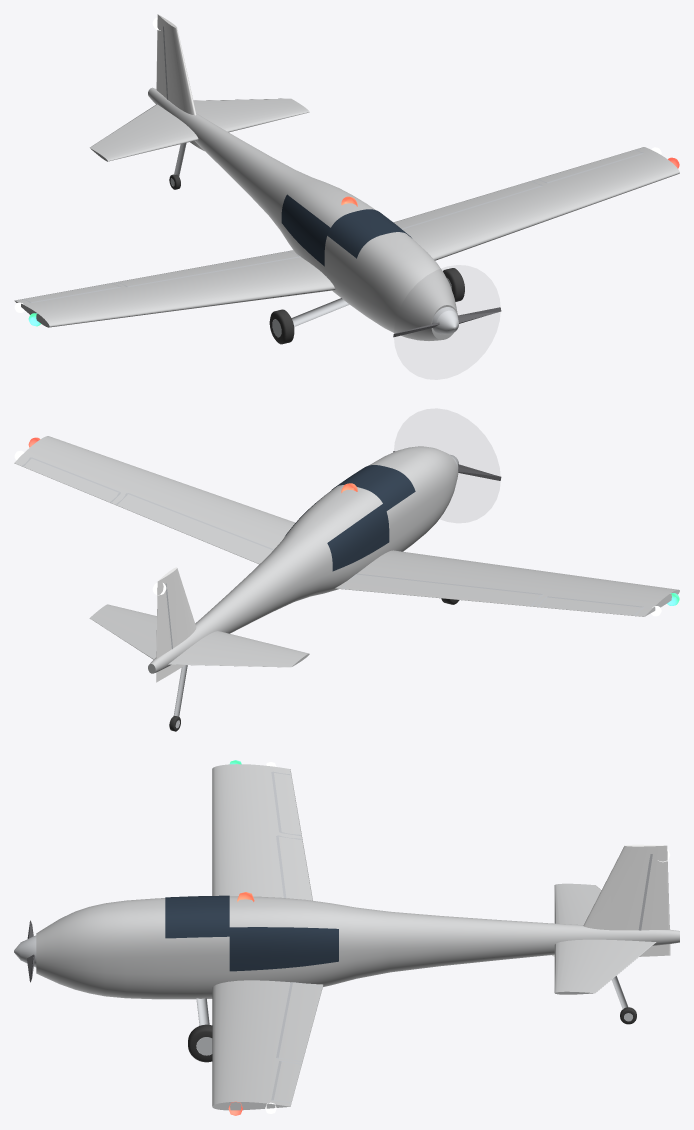
3 views of the same model, one above another, from view 1: azimuth 30°, elevation 25°; view 2: azimuth 150°, elevation 25°; view 3: azimuth 270°, elevation 25° (orthographic). The views are drawn at different scales.
Visible parts, largest first — view 1: airframe; view 2: airframe; view 3: airframe.
Part boxes in pixels (box(x1,y1,x2,y2)): airframe: box(14, 14, 679, 344); airframe: box(14, 436, 679, 731); airframe: box(14, 760, 679, 1115).
Size of the model in its own units: 7.92 by 1.89 by 6.42.
